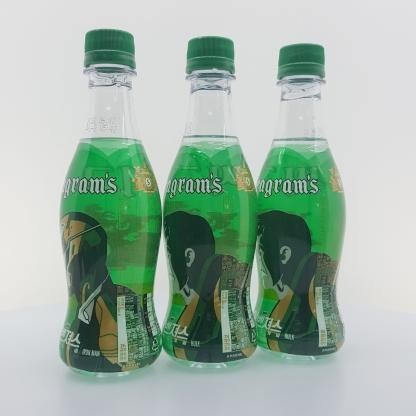-------350ML: (59, 29, 162, 378), (162, 36, 258, 369), (252, 43, 346, 361)
